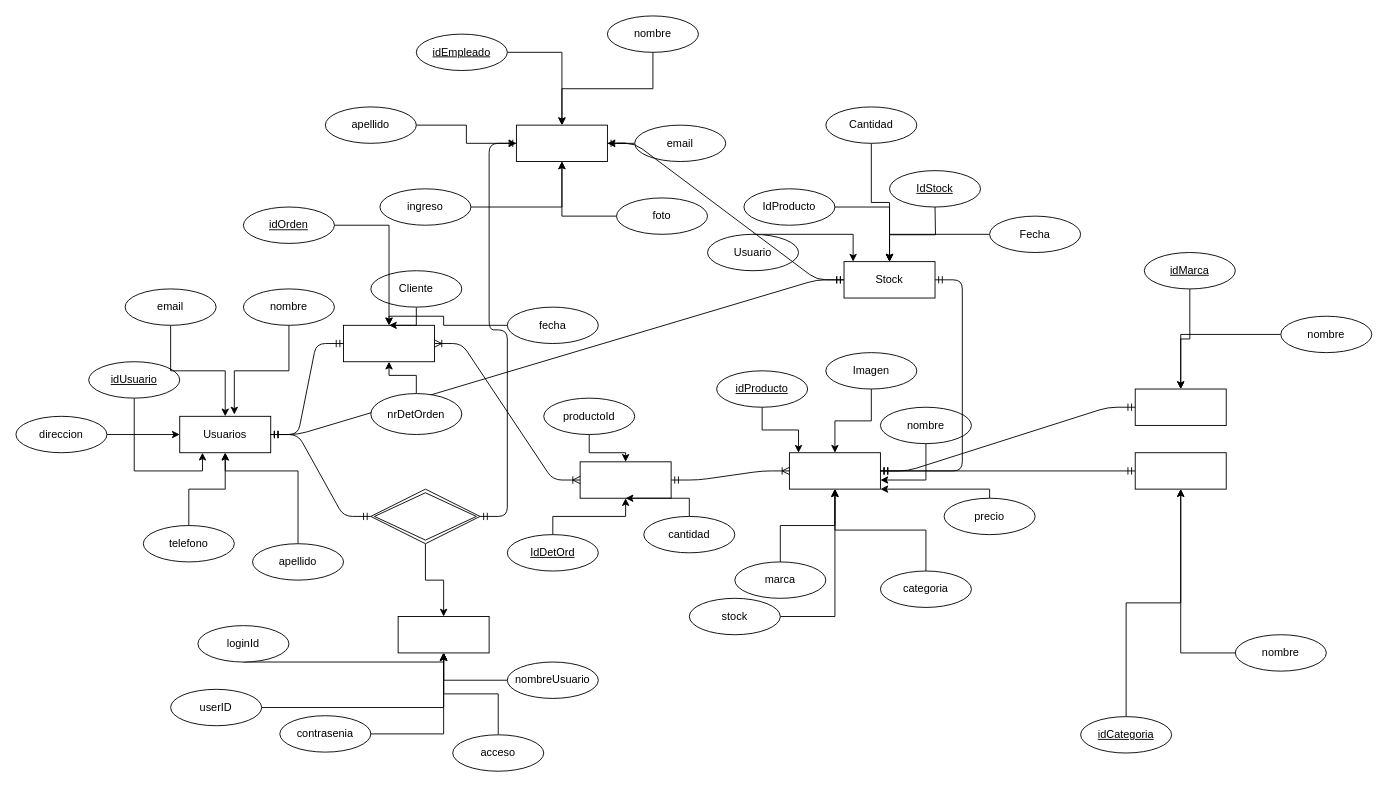
Image size: 1388x787. Some labels were removed from this diagram. The shapes that lost their labels are listed below. From the top down, each one's box as (x1, y1, x2, y2) in pixels, then its label:
(516, 124, 607, 162): Empleado
(343, 324, 435, 362): Orden
(1134, 388, 1226, 425): Marcas
(579, 461, 671, 498): detOrdenes
(789, 452, 880, 489): Productos
(1134, 452, 1226, 489): Categorias
(370, 488, 480, 544): Relationship
(397, 616, 489, 653): Login
